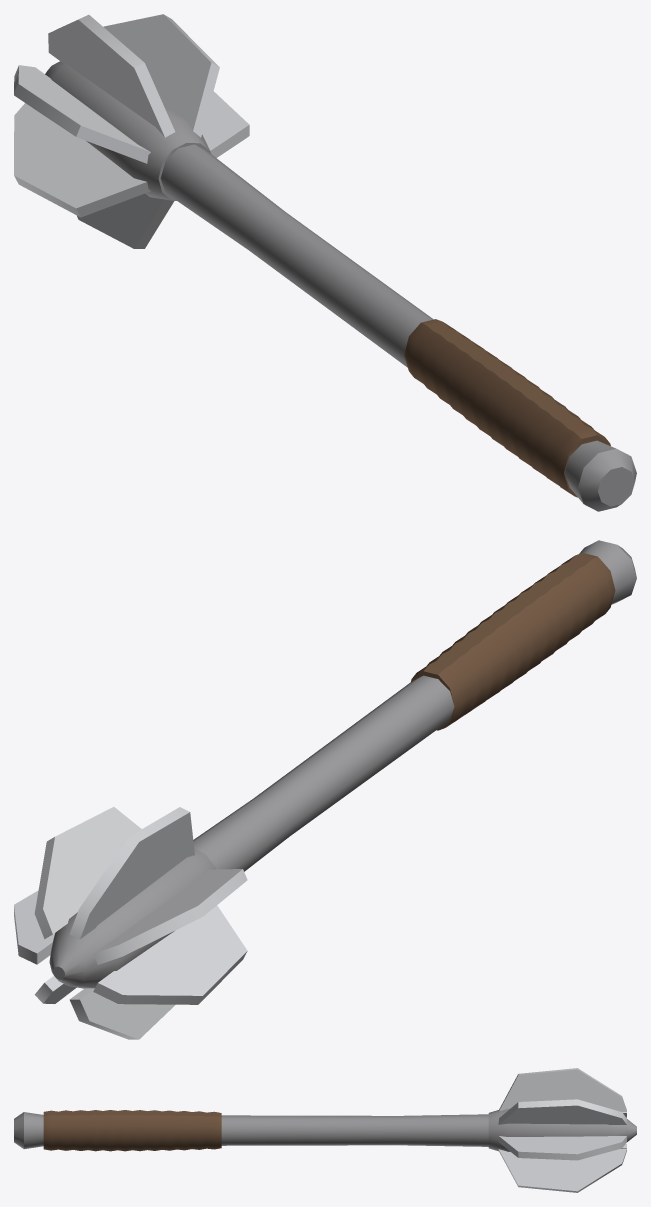
File: flanged_mace.glb
3 views of the same model, one above another, from view 1: azimuth 30°, elevation 25°; view 2: azimuth 150°, elevation 25°; view 3: azimuth 270°, elevation 25° (orthographic). The views are drawn at different scales.
Parts seen in each view (by area): view 1: flanged_mace; view 2: flanged_mace; view 3: flanged_mace.
Part boxes in pixels (<box>): flanged_mace: <box>14,14,636,511</box>; flanged_mace: <box>14,540,636,1039</box>; flanged_mace: <box>14,1068,636,1192</box>.
Size of the model in its own units: 0.1232 by 0.1263 by 0.63.
